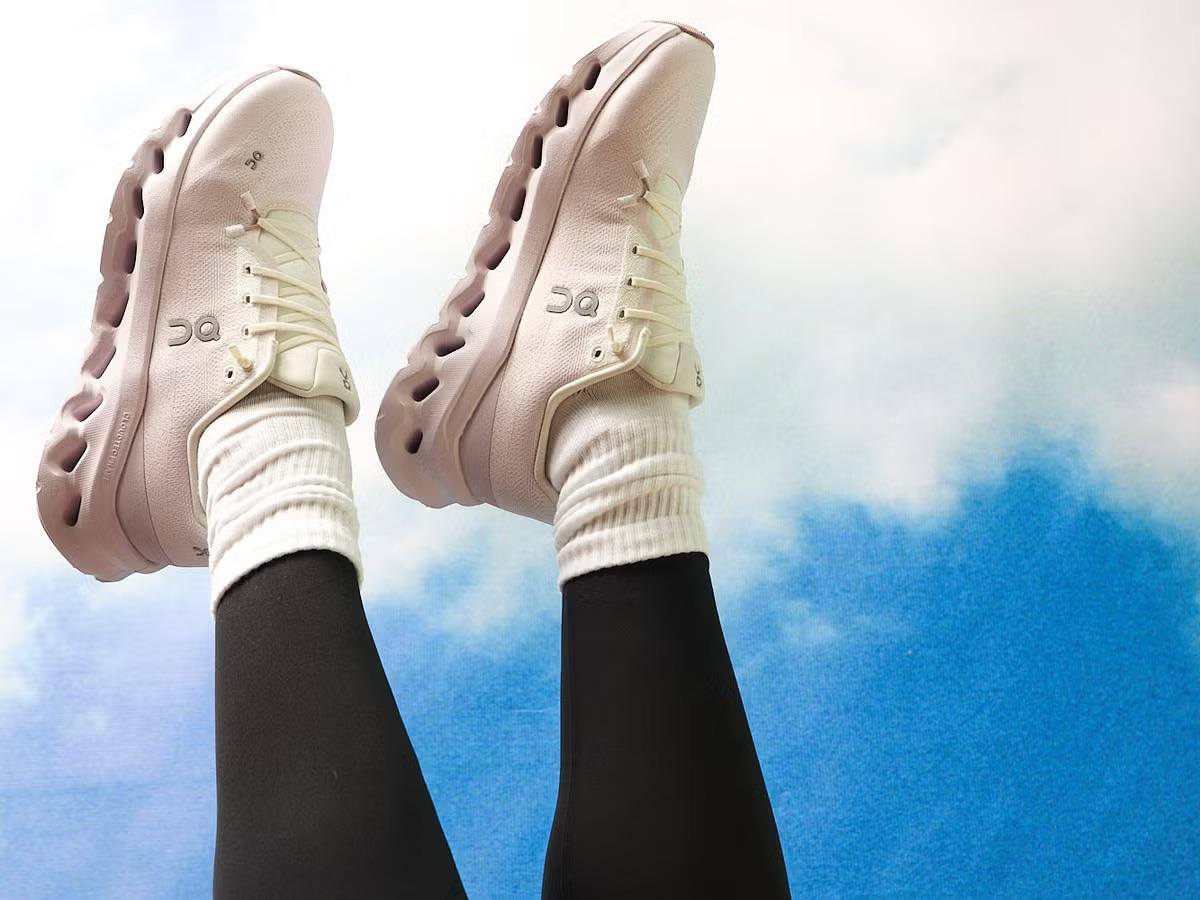OC_logo: (151, 301, 235, 356), (538, 273, 614, 331), (233, 139, 279, 188)
